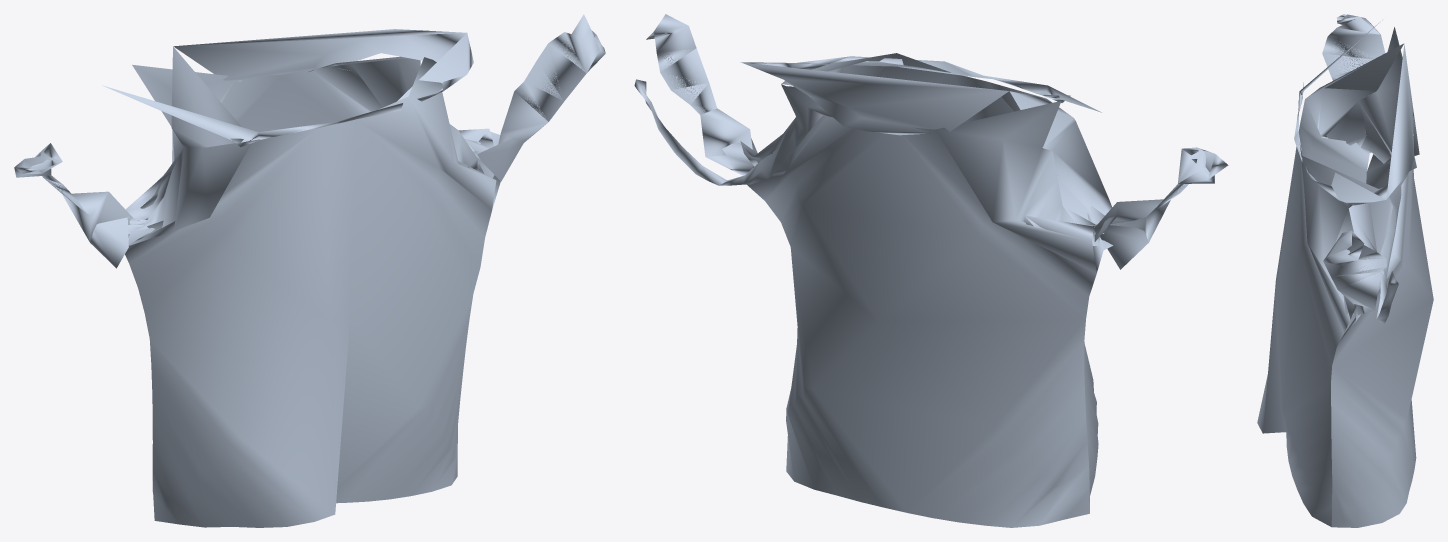
The model's file is frame_031.glb.
The picture shows the model from 3 angles, left to right: view 1: azimuth 30°, elevation 25°; view 2: azimuth 150°, elevation 25°; view 3: azimuth 270°, elevation 25°; orthographic projection. The views are drawn at different scales.
Parts seen in each view (by area): view 1: panel.front, panel.back, panel.neck_band, panel.sleeve.right, panel.sleeve.left; view 2: panel.back, panel.neck_band, panel.front, panel.sleeve.right, panel.sleeve.left; view 3: panel.front, panel.back, panel.neck_band, panel.sleeve.right, panel.sleeve.left.
Part boxes in pixels (x1,y1,x2,y2): panel.front: (125, 46, 496, 527); panel.back: (125, 58, 500, 494); panel.neck_band: (102, 29, 473, 147); panel.sleeve.right: (477, 14, 605, 181); panel.sleeve.left: (14, 143, 133, 268); panel.back: (740, 86, 1099, 527); panel.neck_band: (634, 56, 1101, 185); panel.front: (781, 53, 1113, 501); panel.sleeve.right: (646, 14, 757, 175); panel.sleeve.left: (1094, 147, 1228, 269); panel.front: (1257, 43, 1403, 526); panel.back: (1331, 27, 1433, 527); panel.neck_band: (1294, 20, 1416, 324); panel.sleeve.right: (1323, 230, 1386, 319); panel.sleeve.left: (1322, 14, 1385, 135).
Bounding box in the file's own units: 1.05 × 0.7871 × 0.3272.
